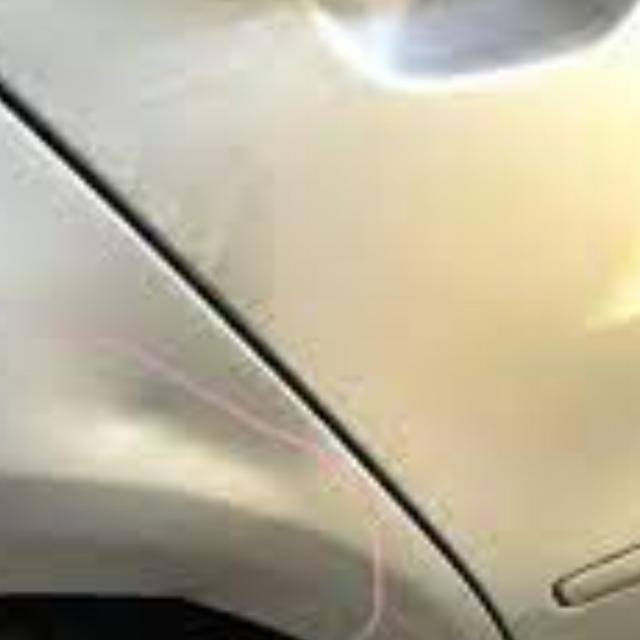dents: (81, 371, 218, 483)
